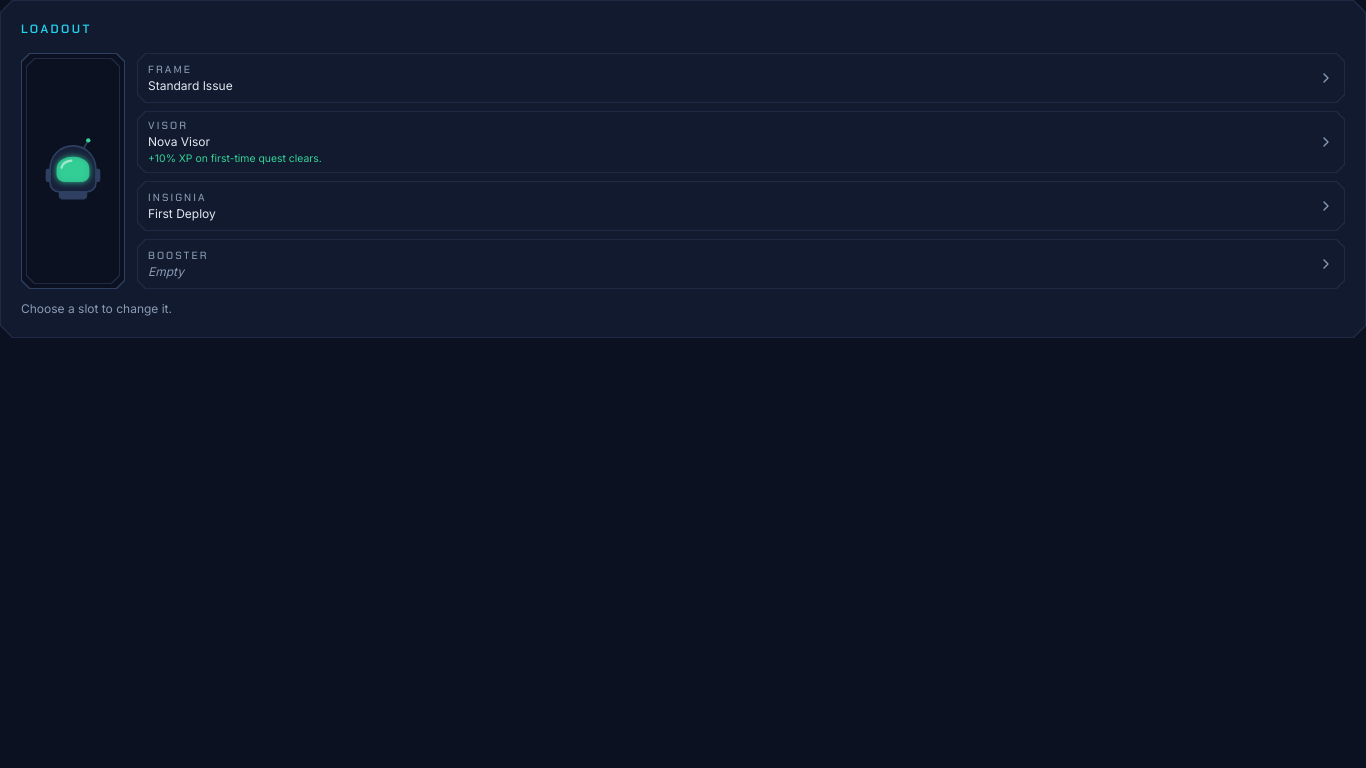
LoadoutPanel › the Visor slot opens the Visors picker, which closes again
The image size is (1366, 768).
Click the button "Visor Nova Visor +10% XP on first-time quest clears.": coordinates (741, 142) x1=137 y1=111 x2=1345 y2=173
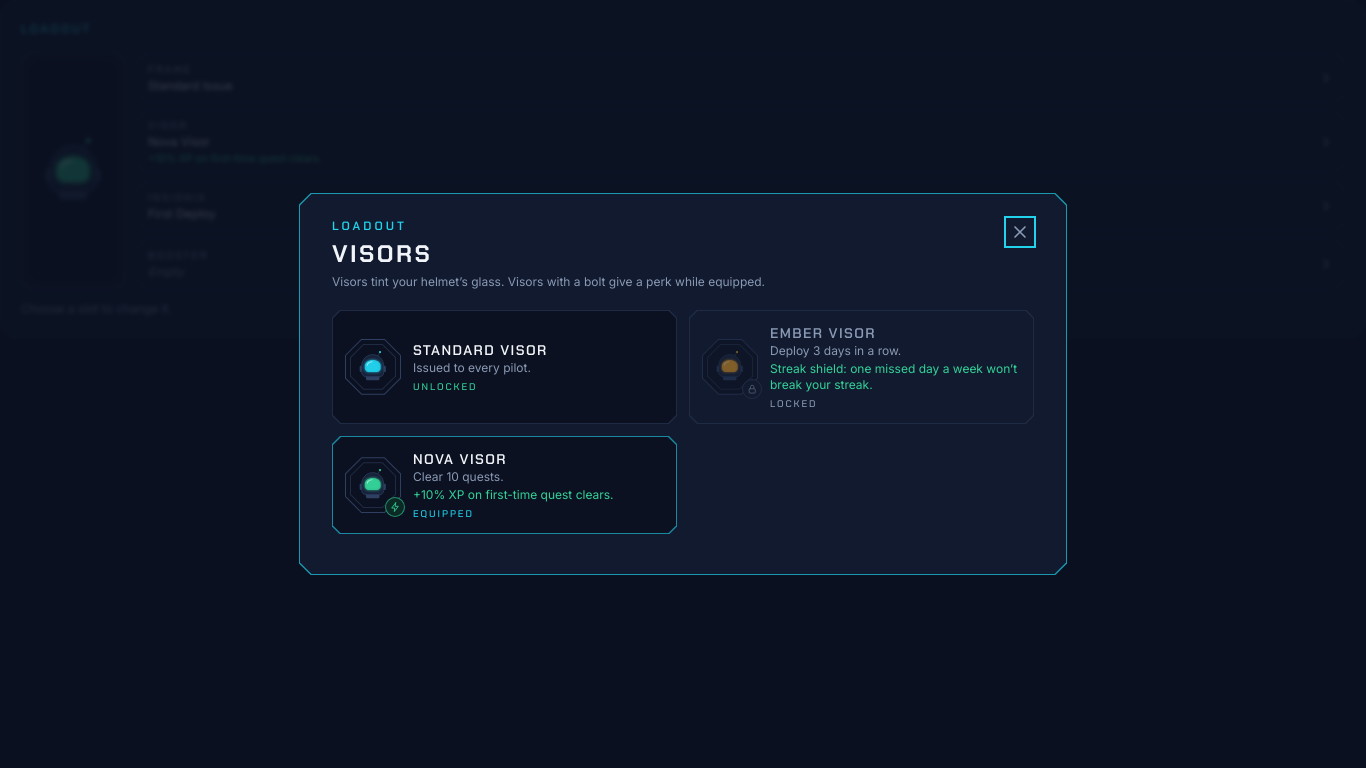
Click the button named "Close": coordinates (1020, 232) x1=1006 y1=218 x2=1034 y2=246
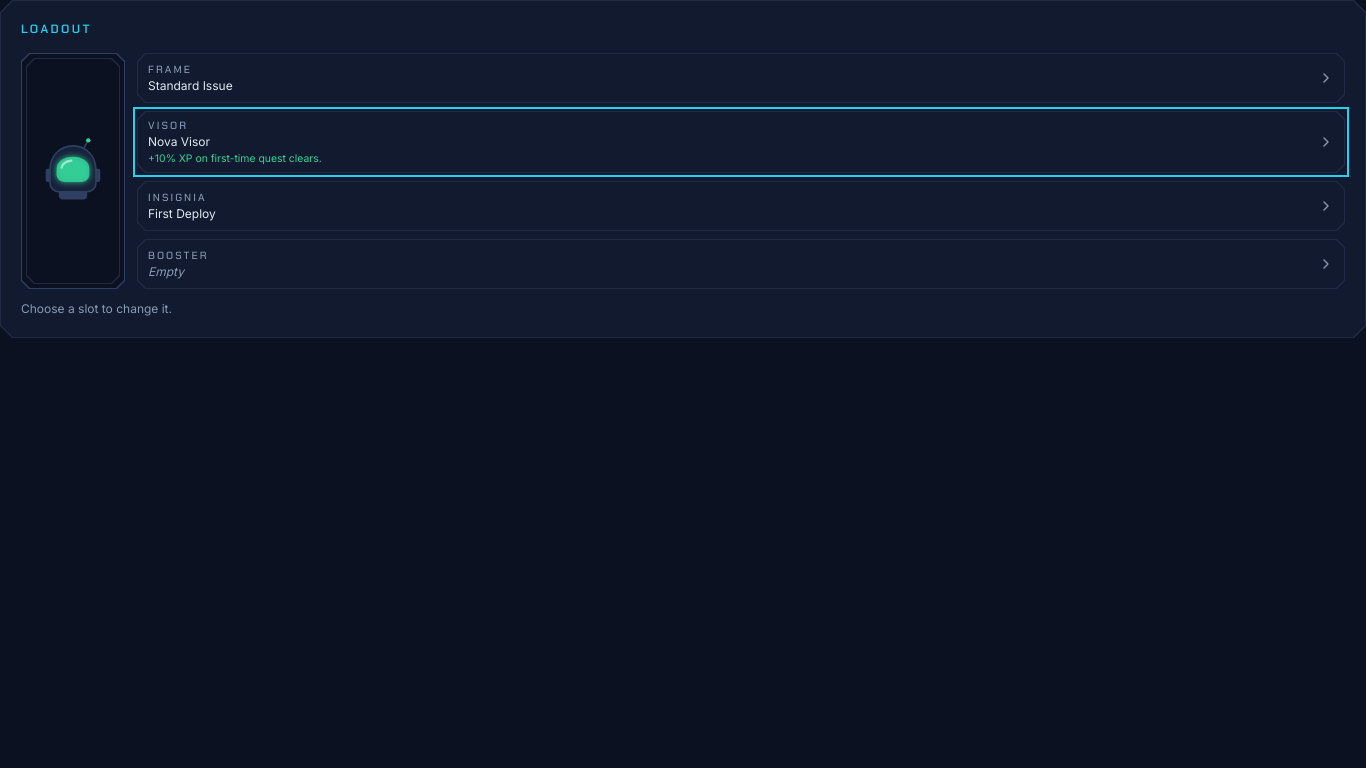
Now the dialog is gone
